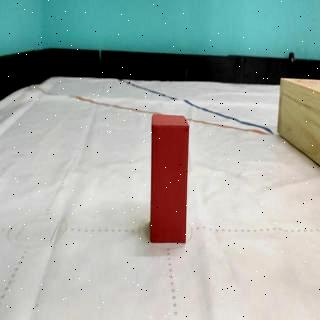redbox: (151, 112, 189, 244)
